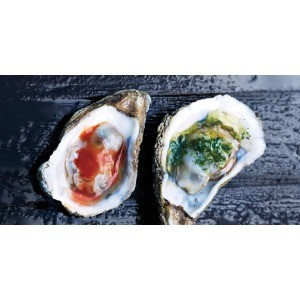oyster_brain food: (36, 85, 141, 219), (153, 91, 266, 209)
